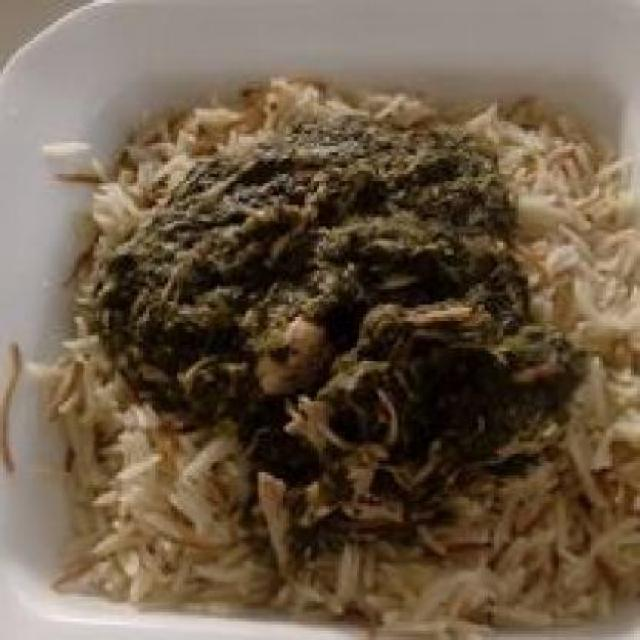molokhia: (108, 136, 520, 516)
